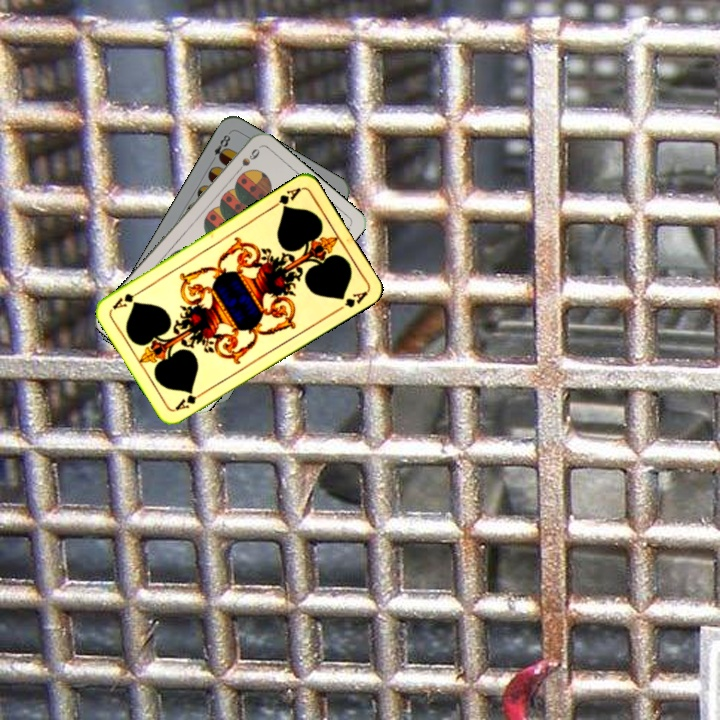E8: (207, 129, 233, 165)
GA: (267, 183, 304, 212), (171, 387, 208, 413)
S9: (231, 144, 262, 178)
